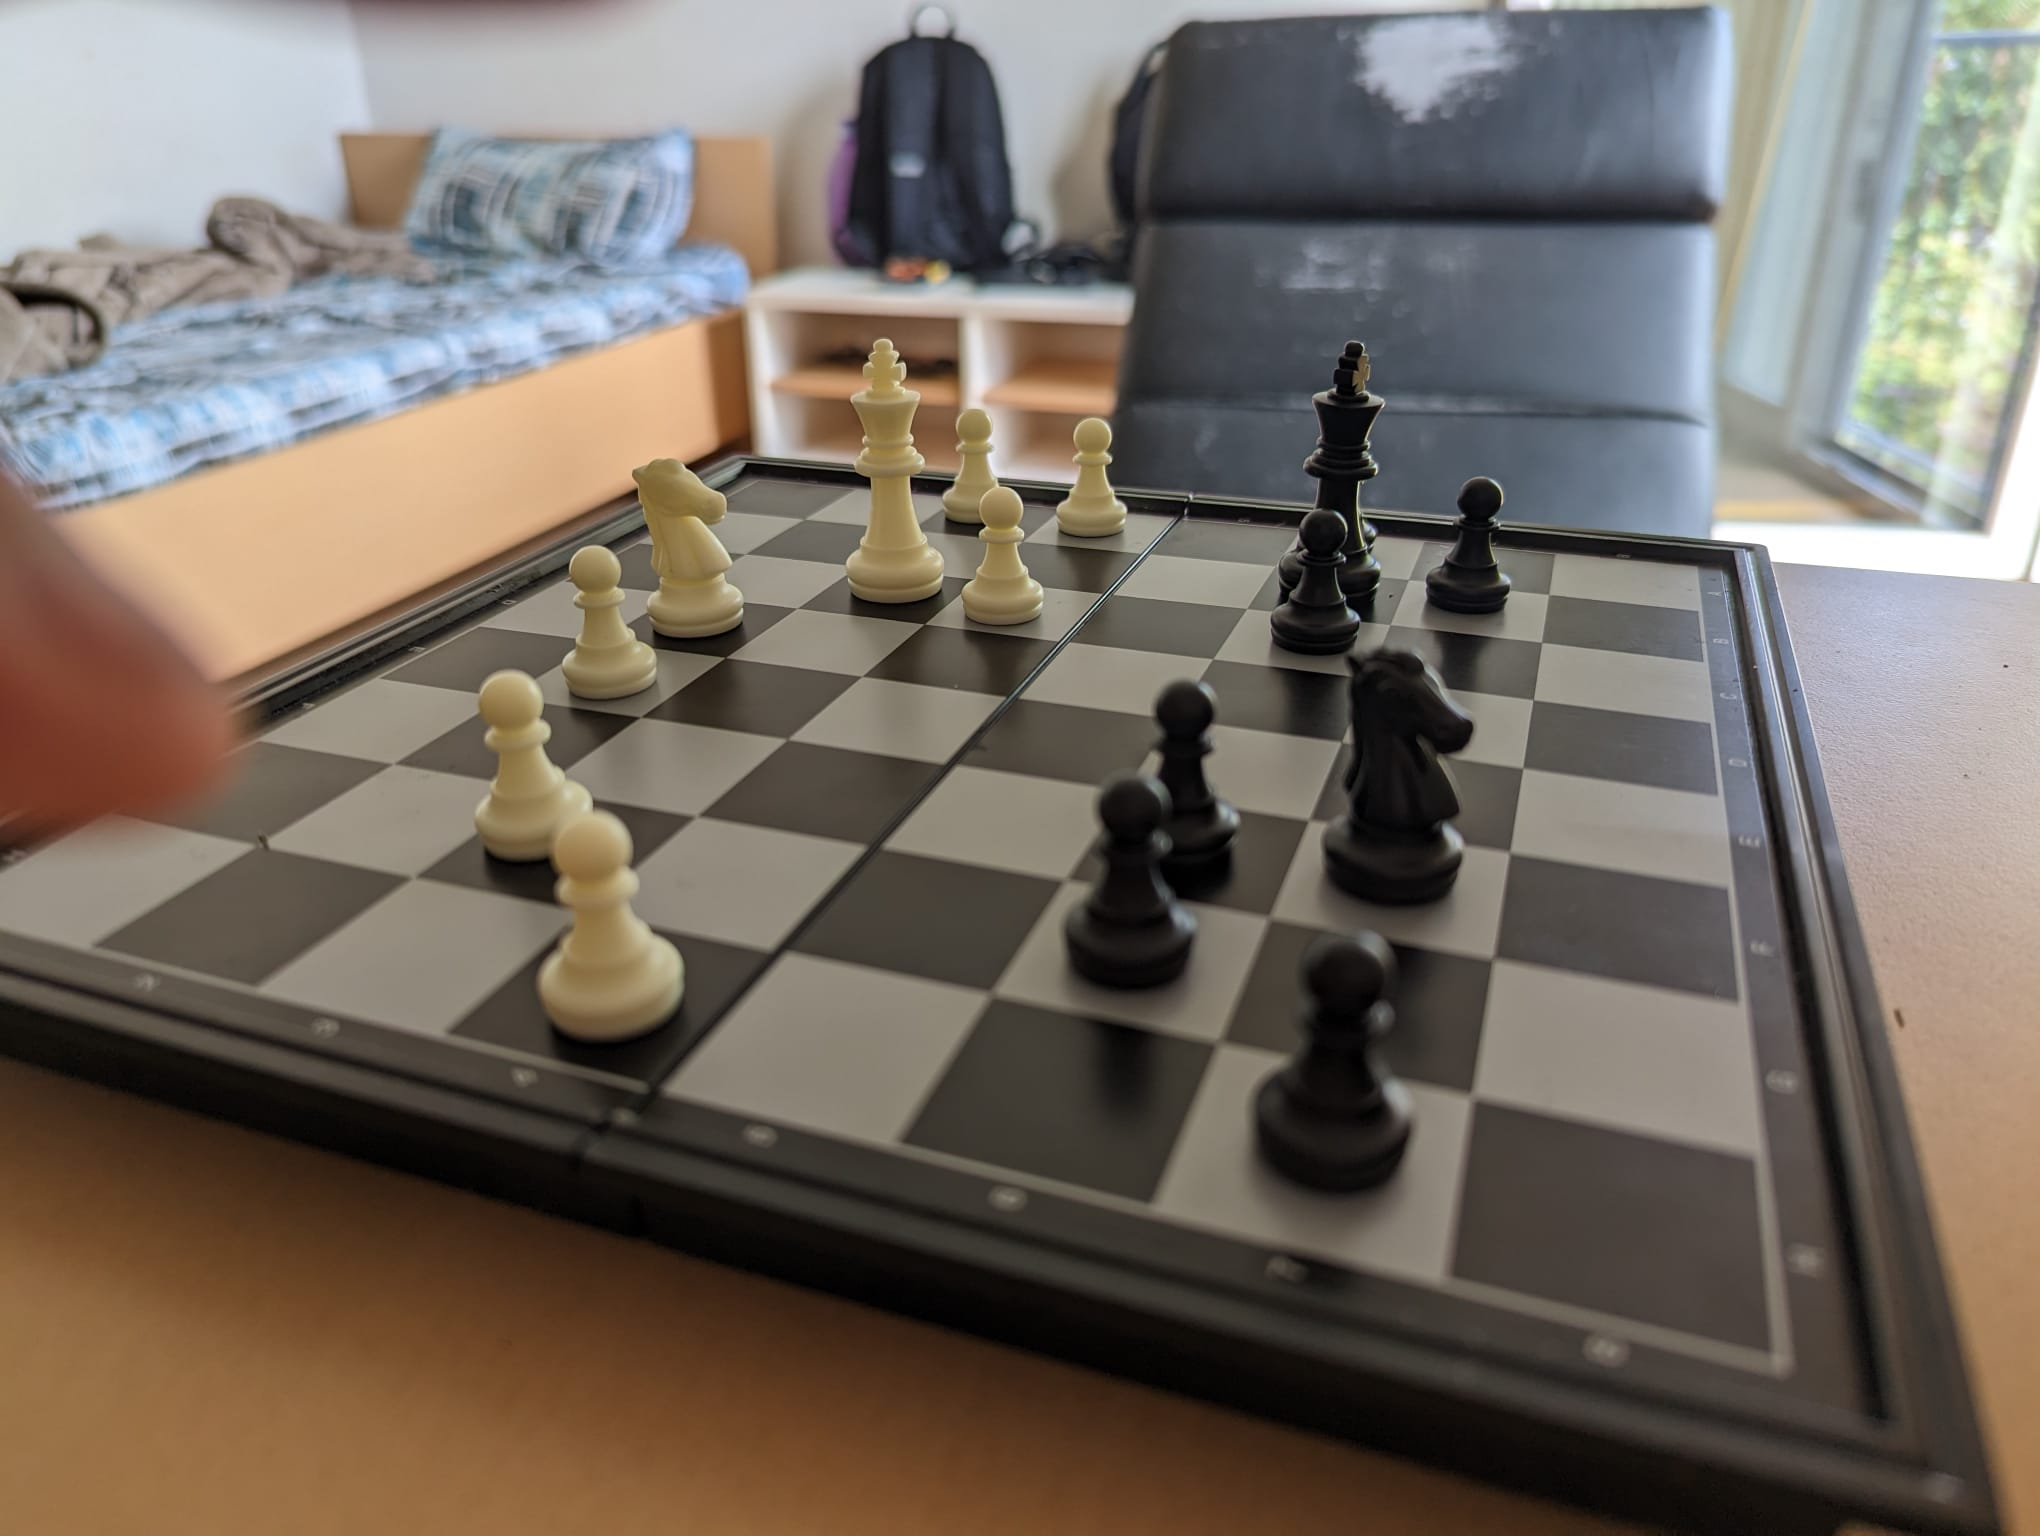BK: (1285, 337, 1382, 600)
BN: (1321, 649, 1477, 908)
BP: (1247, 933, 1418, 1189), (1069, 778, 1190, 986), (1148, 678, 1245, 862), (1269, 513, 1358, 650), (1426, 474, 1516, 607)
WK: (847, 336, 945, 603)
WN: (624, 460, 745, 637)
WP: (535, 810, 687, 1041), (471, 674, 597, 858), (563, 547, 660, 694), (963, 486, 1045, 623), (1055, 413, 1130, 532), (937, 407, 1003, 516)
